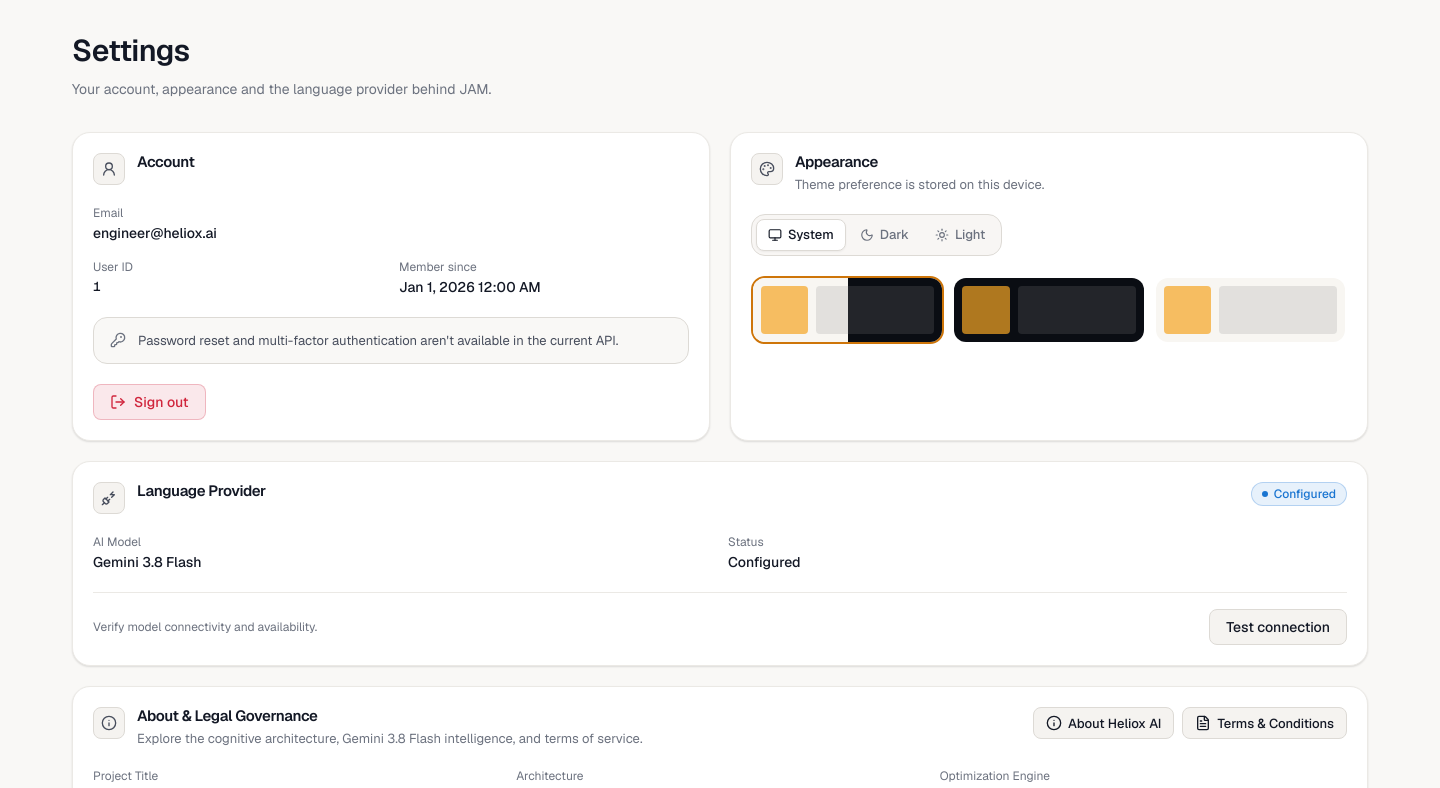
Scenario: SettingsPage - Language Provider Section › transitions to Verified when test connection succeeds
Click the button "Test connection".
click(1278, 627)  # box [1209,609,1347,645]
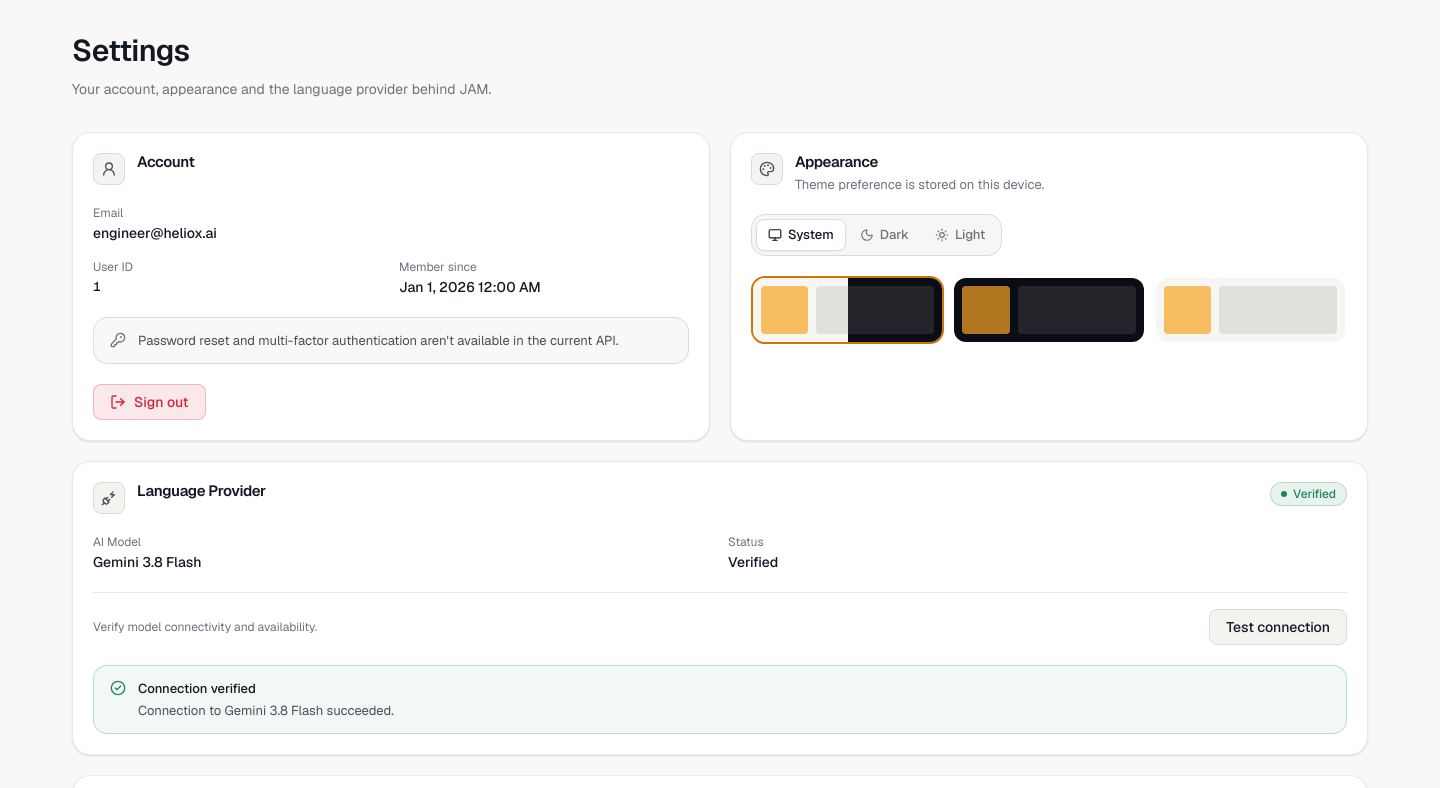
Check: the text "Connection verified" is shown, box [138,680,256,697]
Check: the text "Connection to Gemini 3.8 Flash succeeded." is shown, box [138,702,394,718]
